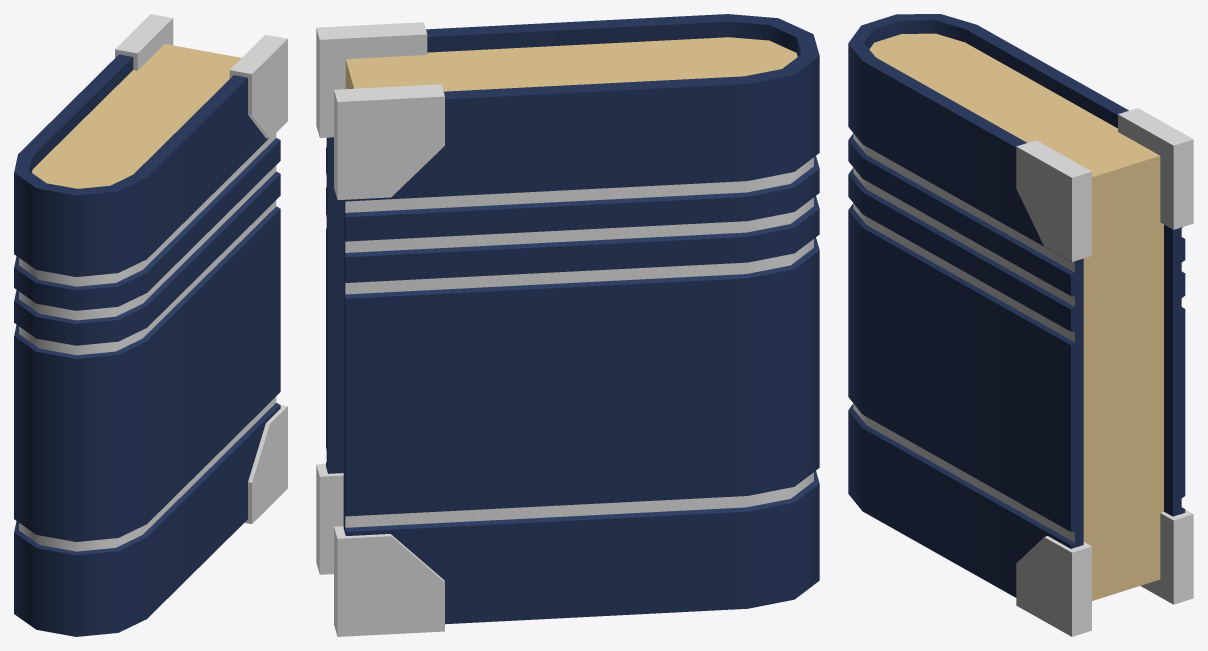
File: obj_Book_02.fbx
3 views of the same model, side by side, from view 1: azimuth 30°, elevation 25°; view 2: azimuth 150°, elevation 25°; view 3: azimuth 270°, elevation 25° (orthographic). The views are drawn at different scales.
Visible parts, largest first — view 1: Book_02, Paper.001, Book_EdgePattern.010; view 2: Book_02, Book_EdgePattern.010, Paper.001; view 3: Book_02, Paper.001, Book_EdgePattern.010.
Part boxes in pixels (x1,y1,x2,y2): Book_02: (14, 54, 280, 636); Paper.001: (32, 44, 241, 188); Book_EdgePattern.010: (115, 14, 287, 523); Book_02: (326, 14, 819, 624); Book_EdgePattern.010: (316, 22, 444, 636); Paper.001: (345, 37, 797, 91); Book_02: (848, 14, 1185, 597); Paper.001: (869, 33, 1163, 600); Book_EdgePattern.010: (1016, 108, 1193, 636).
Size of the model in its own units: 0.2231 by 0.2838 by 0.1936.
